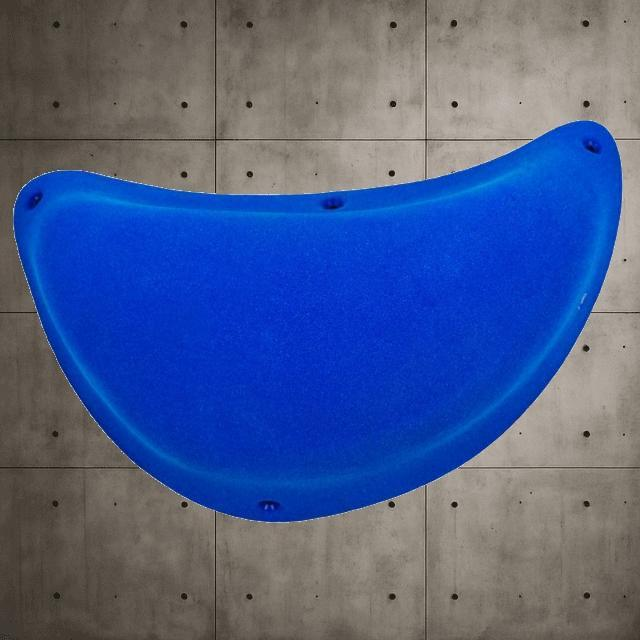Sloper: (12, 118, 624, 522)
